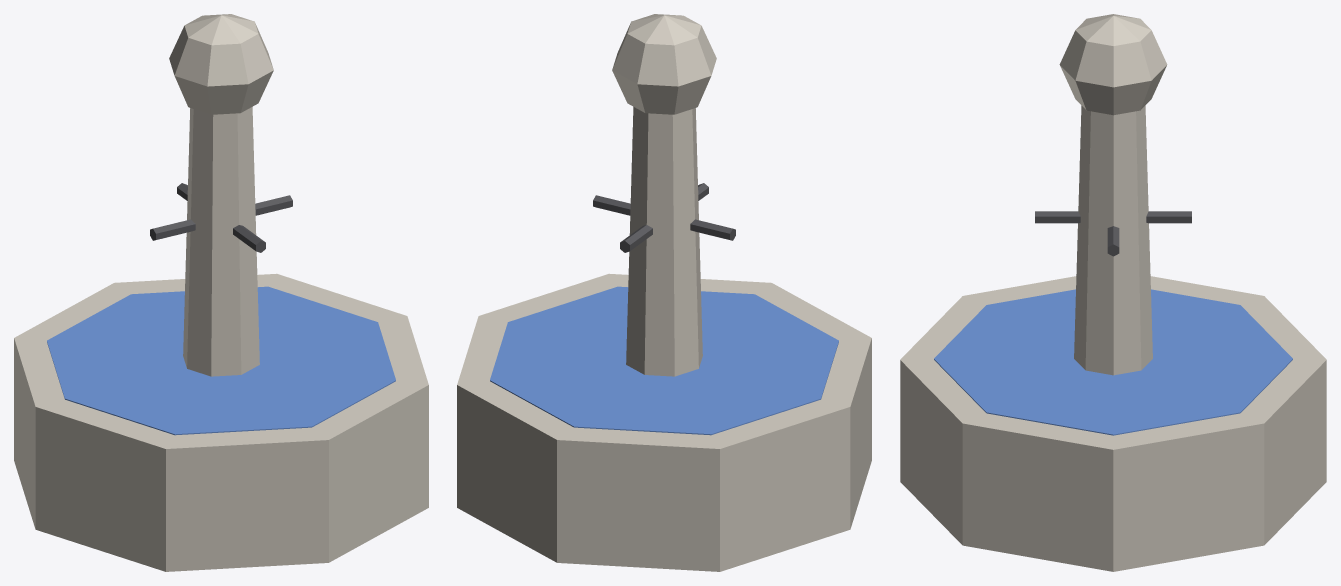
The model's file is VJ_Fuente.fbx.
3 views of the same model, side by side, from view 1: azimuth 30°, elevation 25°; view 2: azimuth 150°, elevation 25°; view 3: azimuth 270°, elevation 25° (orthographic).
Visible parts, largest first — view 1: VJ_Fuente; view 2: VJ_Fuente; view 3: VJ_Fuente.
Boxes of the visible parts, box(x1,y1,x2,y2) form: VJ_Fuente: box(14, 14, 428, 571); VJ_Fuente: box(457, 14, 871, 571); VJ_Fuente: box(900, 14, 1326, 571).
Bounding box in the file's own units: 1.9 × 2.29 × 1.9.
